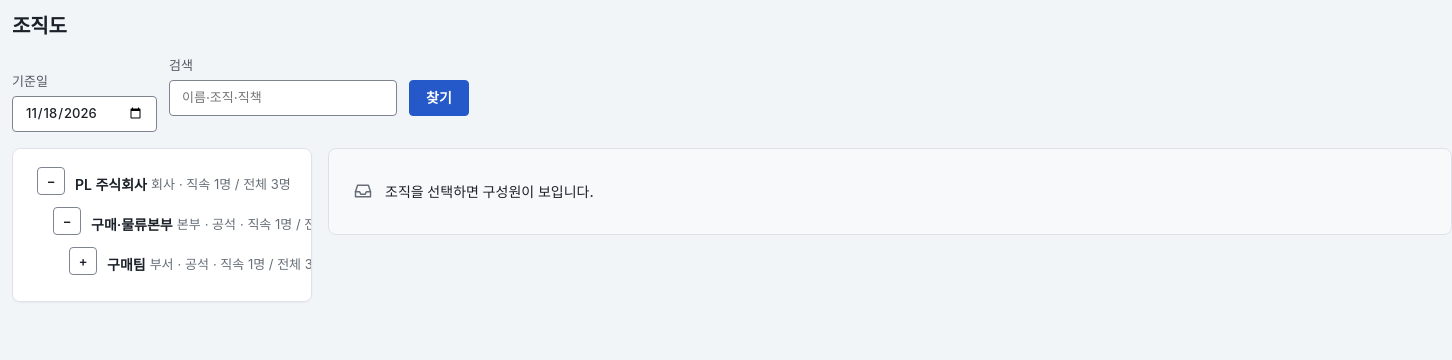
Test: 조직도 화면 › 조직을 고르면 구성원이 보이고 구성원이 없으면 안내한다
Click the text "구매·물류본부" at [132, 224], box [91,214,173,235]
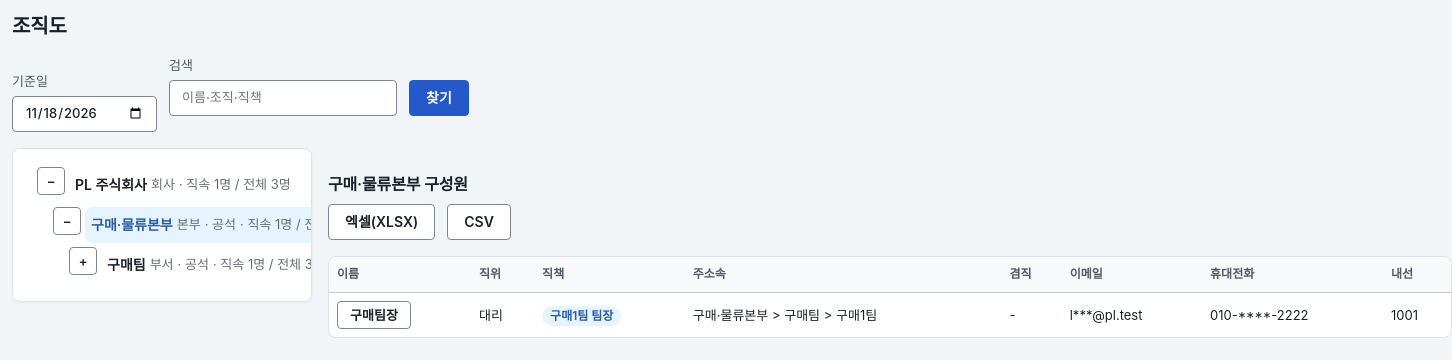
Check: the button "구매팀장" is shown, box [337,301,411,329]
Check: the text "구매1팀 팀장" is shown, box [542,306,621,326]
Check: the text "010-****-2222" is shown, box [1202,292,1383,337]
Click the text "구매팀" at [126, 264], box [107,254,146,275]
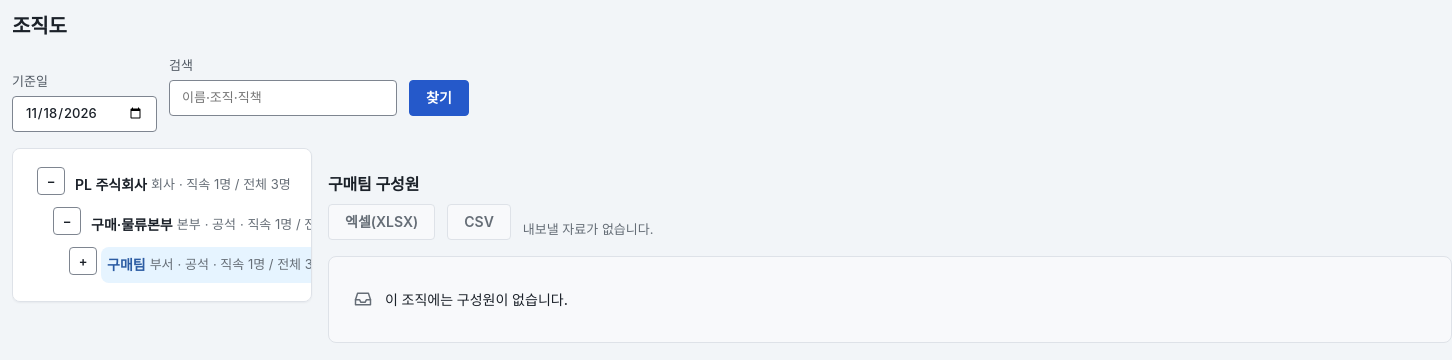
Check: the text "이 조직에는 구성원이 없습니다." is shown, box [385,288,568,310]
